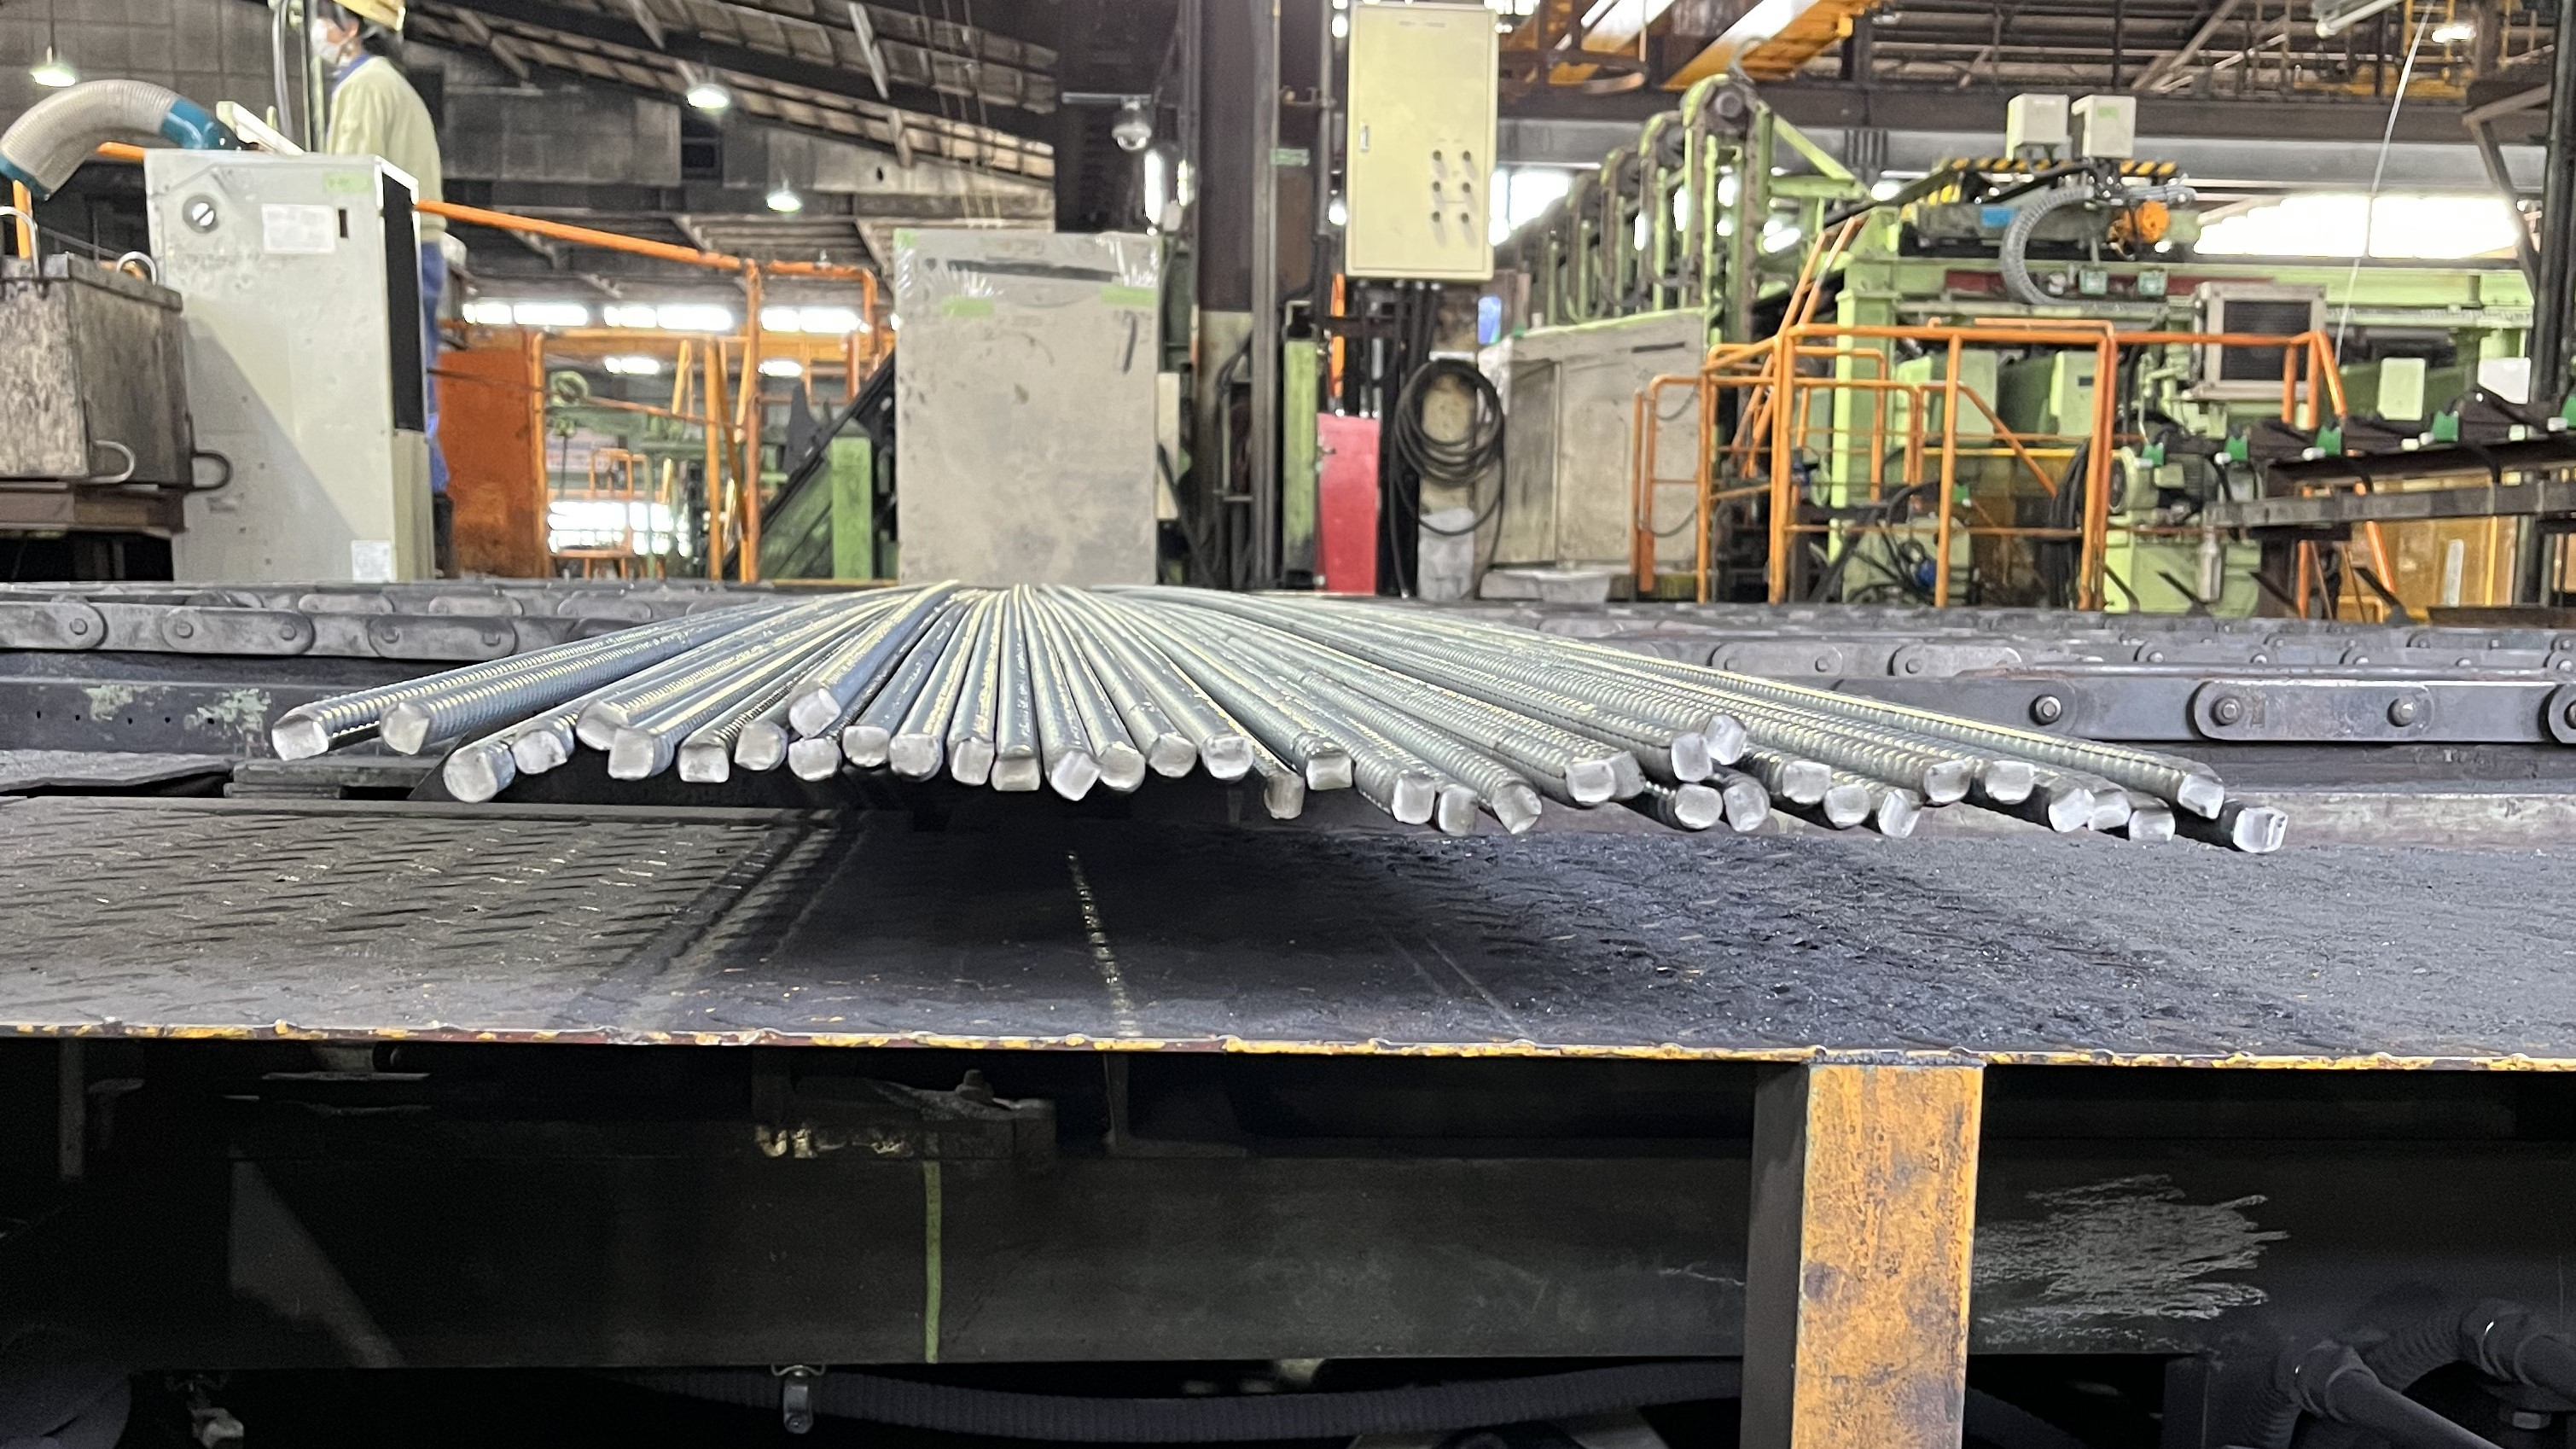rod: (441, 748, 501, 805), (1490, 778, 1545, 835), (573, 699, 632, 752), (379, 701, 432, 755), (603, 725, 656, 780), (1049, 748, 1102, 803), (885, 732, 943, 782), (1198, 732, 1256, 782), (271, 715, 331, 763), (786, 688, 842, 738), (508, 729, 568, 775), (732, 720, 784, 773), (2174, 768, 2226, 821), (1391, 771, 1440, 826), (1721, 778, 1771, 833), (676, 738, 732, 786), (1437, 784, 1483, 842), (1564, 759, 1617, 809), (1702, 711, 1750, 766), (1982, 757, 2036, 805), (786, 738, 842, 784), (1877, 786, 1923, 840), (1672, 784, 1723, 832), (1821, 782, 1872, 830), (989, 748, 1042, 794), (2231, 803, 2277, 856), (1306, 745, 1353, 794), (2047, 786, 2095, 835), (1921, 759, 1973, 805), (1146, 734, 1200, 778), (1099, 745, 1146, 793), (948, 738, 994, 787), (1782, 759, 1831, 805), (839, 724, 890, 768), (2084, 786, 2132, 832), (1261, 771, 1306, 821), (1608, 750, 1649, 801), (1668, 734, 1713, 780), (2127, 805, 2174, 847)
